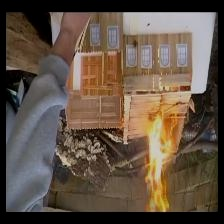fire: (135, 111, 187, 213)
